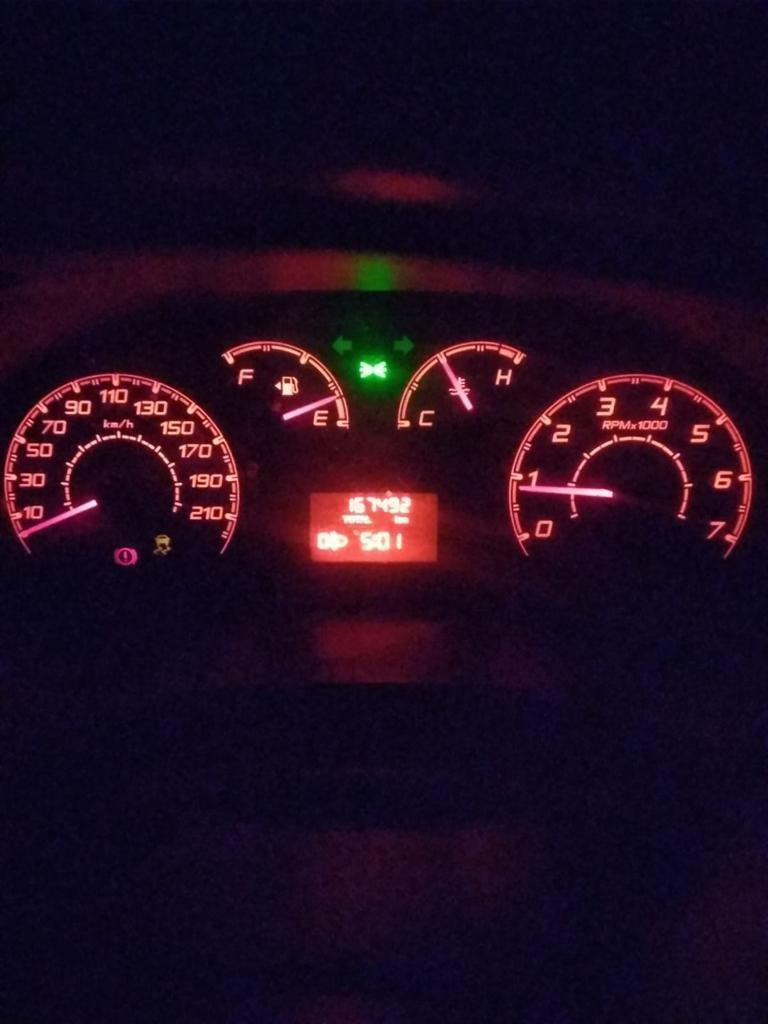0: (376, 530, 391, 552), (314, 530, 329, 551)
1: (394, 530, 404, 551), (346, 495, 353, 513)
2: (399, 495, 412, 513)
4: (376, 496, 388, 514)
5: (359, 530, 372, 552)
6: (353, 495, 366, 513)
7: (365, 495, 376, 514)
9: (388, 495, 399, 514)
X: (340, 514, 349, 525), (399, 515, 409, 524), (372, 533, 377, 550), (392, 514, 400, 524), (366, 514, 372, 524), (354, 514, 360, 524), (349, 514, 355, 524), (360, 515, 365, 524)
odometer: (302, 487, 443, 566)
